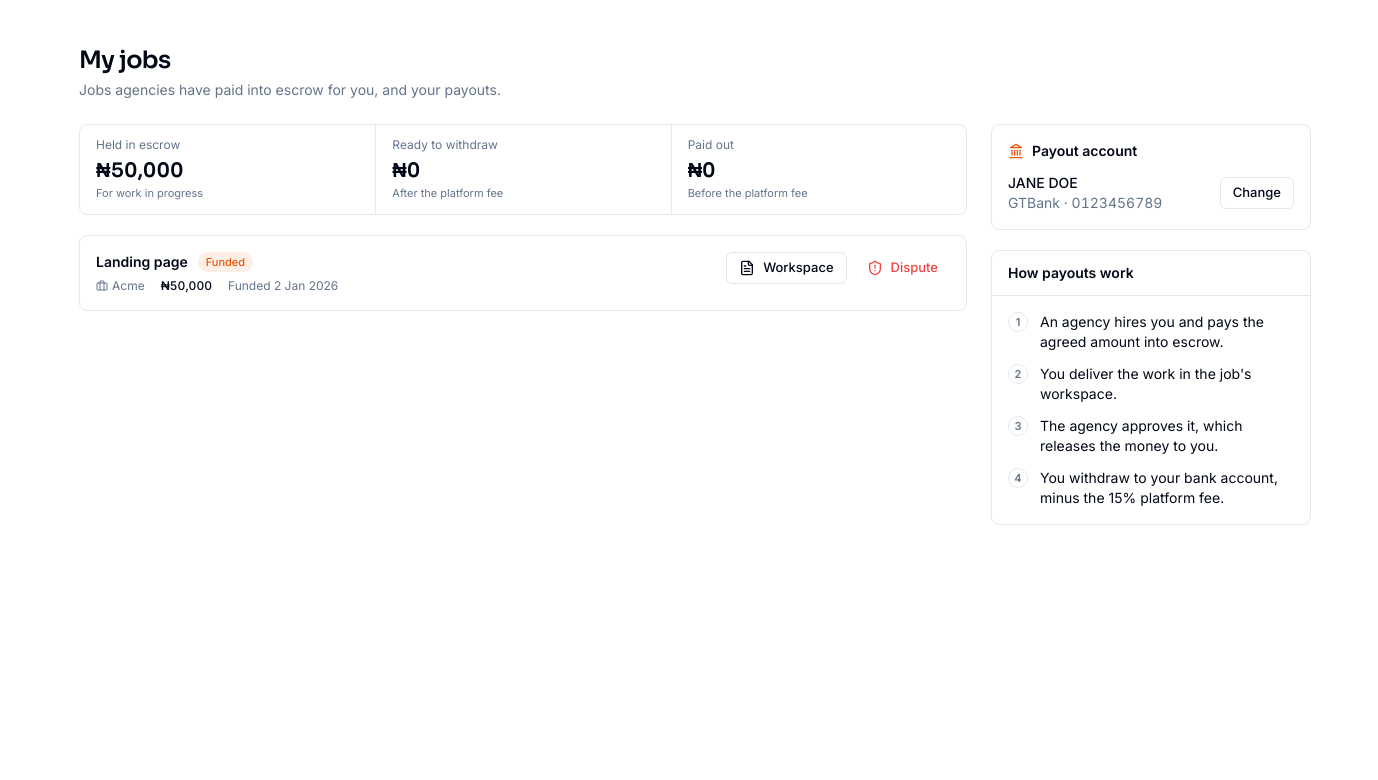
FundedJobs › offers a workspace link and dispute for a funded job, and opens a dispute into the dispute room
Step 1. Click the button "Dispute" → (902, 268), box [854,252,950,284]
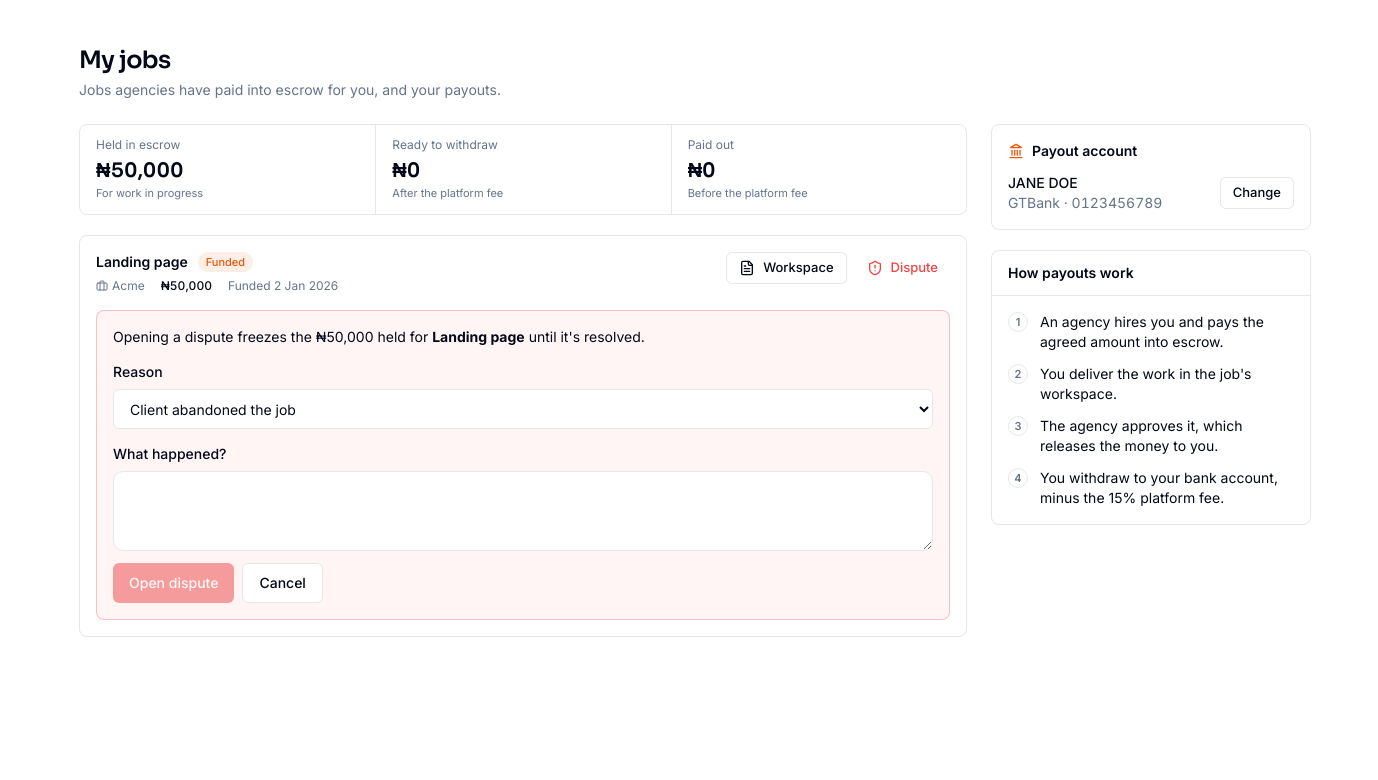
Step 2. Type "Client went silent" into the text box labelled "What happened?" → (523, 511), box [113,471,933,551]
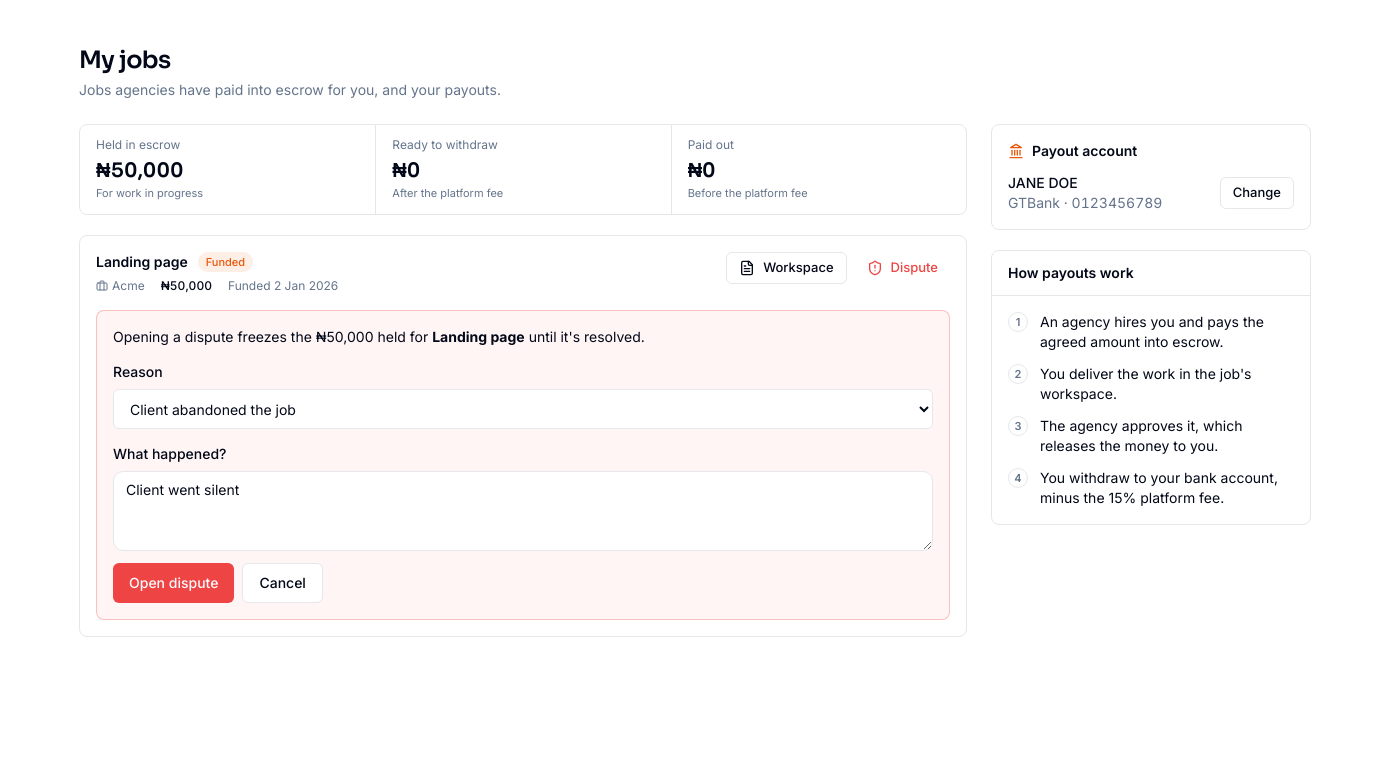
Step 3. Click the button "Open dispute" → (174, 583), box [113,563,234,603]
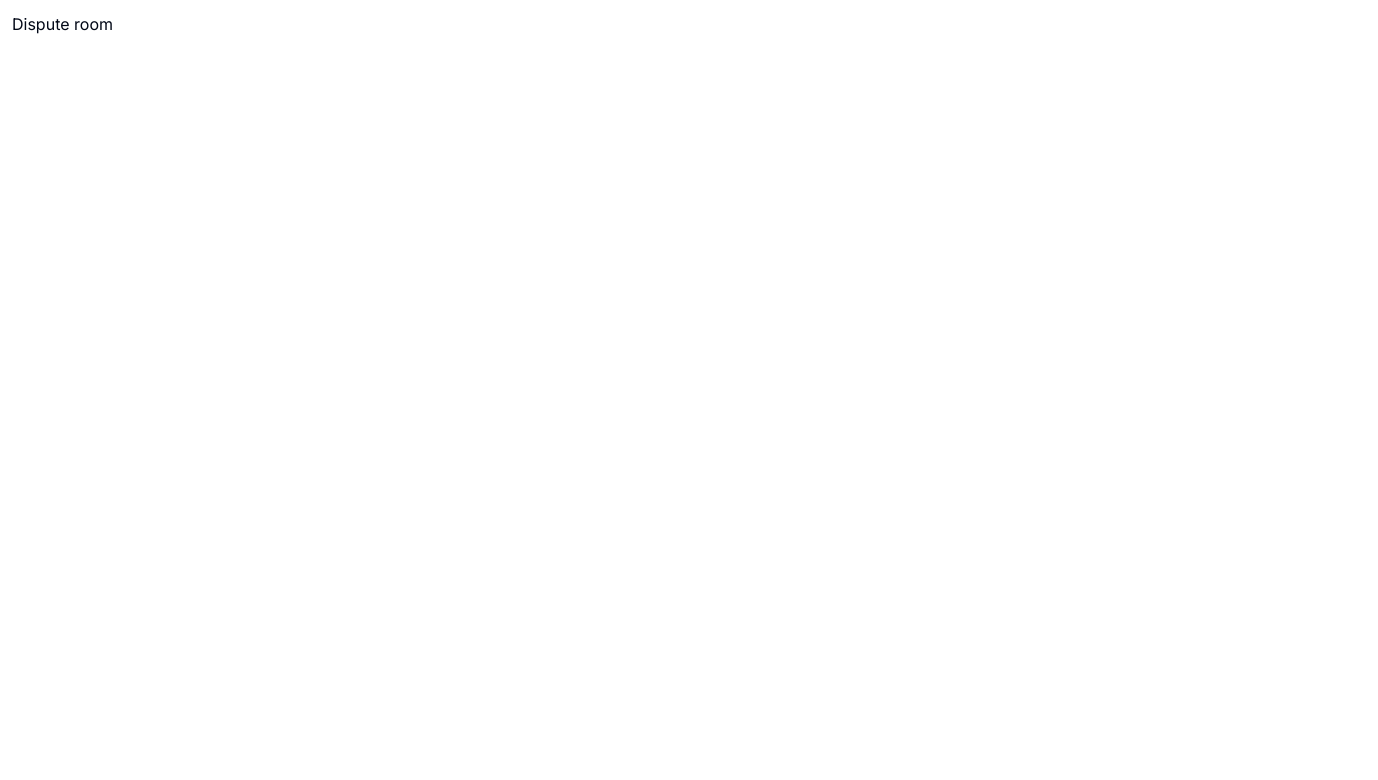
expect the text "Dispute room" is shown: met, box [12,14,113,34]
